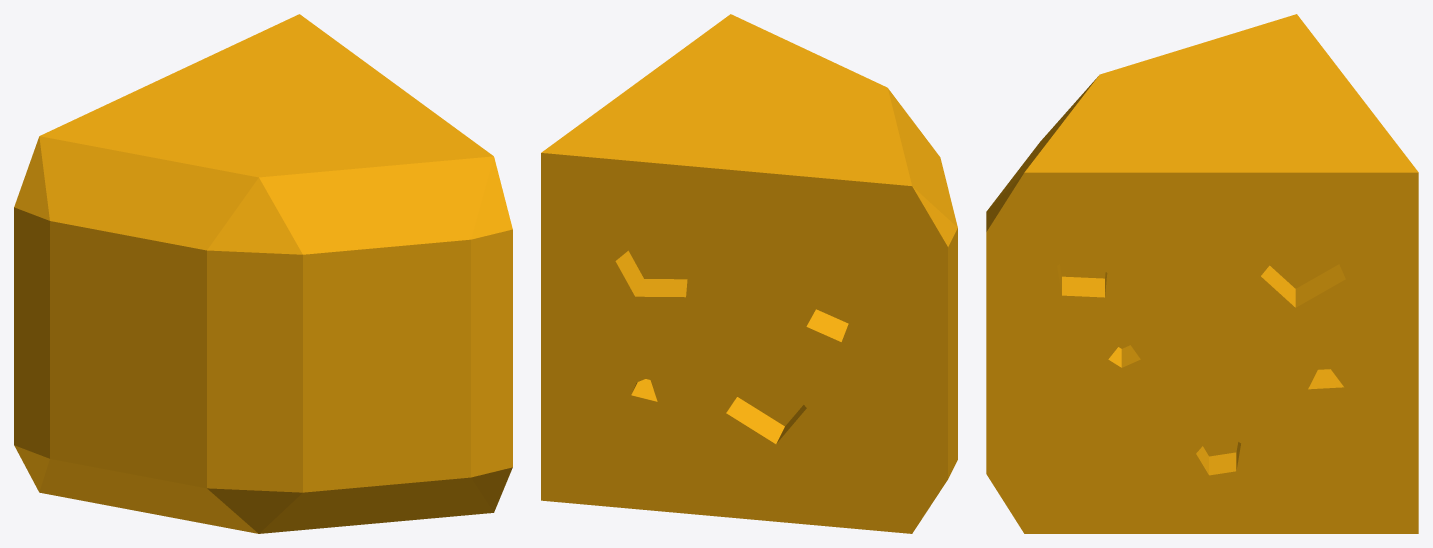
The model's file is small_cheese.obj.
The picture shows the model from 3 angles, left to right: view 1: azimuth 30°, elevation 25°; view 2: azimuth 150°, elevation 25°; view 3: azimuth 270°, elevation 25°; orthographic projection. The views are drawn at different scales.
Visible parts, largest first — view 1: Cylinder.001_Mesh; view 2: Cylinder.001_Mesh; view 3: Cylinder.001_Mesh.
Part boxes in pixels (box(x1,y1,x2,y2)): Cylinder.001_Mesh: box(14, 14, 512, 533); Cylinder.001_Mesh: box(541, 14, 957, 533); Cylinder.001_Mesh: box(986, 14, 1418, 533).
Bounding box in the file's own units: 0.1431 × 0.1388 × 0.1505.
